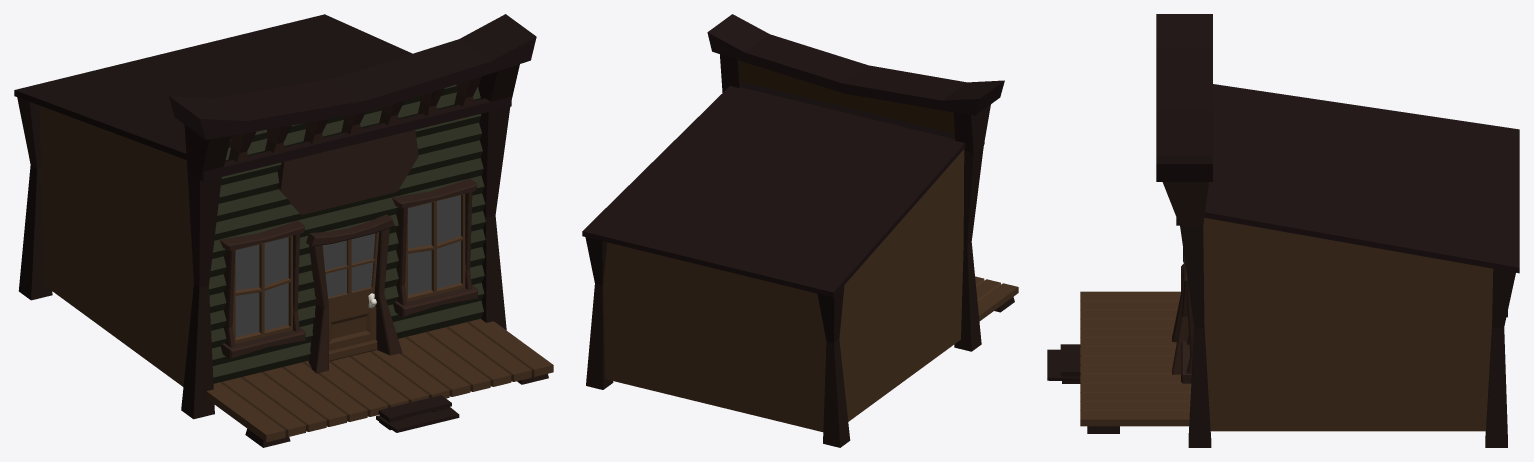
File: Building06.fbx
3 renders of one model, left to right at view 1: azimuth 30°, elevation 25°; view 2: azimuth 150°, elevation 25°; view 3: azimuth 270°, elevation 25°, orthographic. The views are drawn at different scales.
Parts seen in each view (by area): view 1: Cube.236; view 2: Cube.236; view 3: Cube.236.
Part boxes in pixels (<box>): Cube.236: <box>14,14,553,447</box>; Cube.236: <box>582,14,1018,447</box>; Cube.236: <box>1047,14,1519,447</box>.
Bounding box in the file's own units: 586 × 526 × 779.
